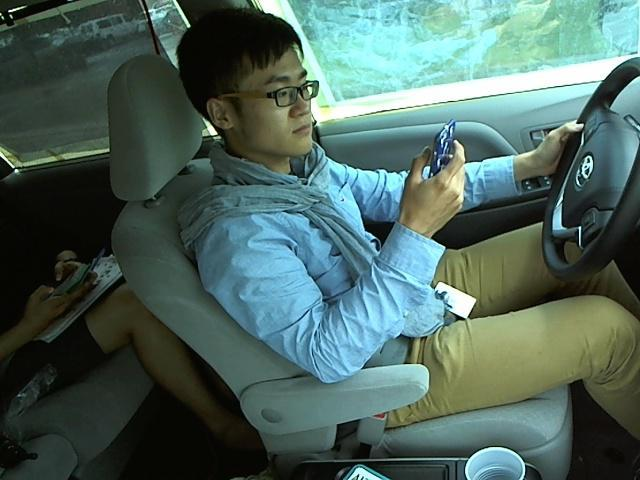PhoneUse: (424, 118, 457, 183)
